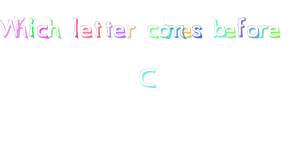C: (132, 62, 165, 92)
W: (1, 12, 19, 44)
b: (210, 14, 227, 41)
c: (36, 21, 50, 43), (144, 23, 160, 41)
e: (267, 24, 282, 42), (179, 21, 193, 40), (113, 21, 126, 41), (80, 22, 94, 39), (223, 22, 236, 40)
f: (235, 11, 247, 42)
h: (13, 12, 29, 44), (47, 13, 64, 41)
i: (27, 16, 37, 39)
l: (68, 13, 85, 42)
m: (166, 21, 185, 41)
o: (156, 22, 172, 40), (246, 23, 260, 41)
r: (123, 21, 138, 42), (255, 21, 269, 41)
s: (190, 22, 206, 41)
t: (92, 14, 102, 40), (103, 17, 111, 40)
